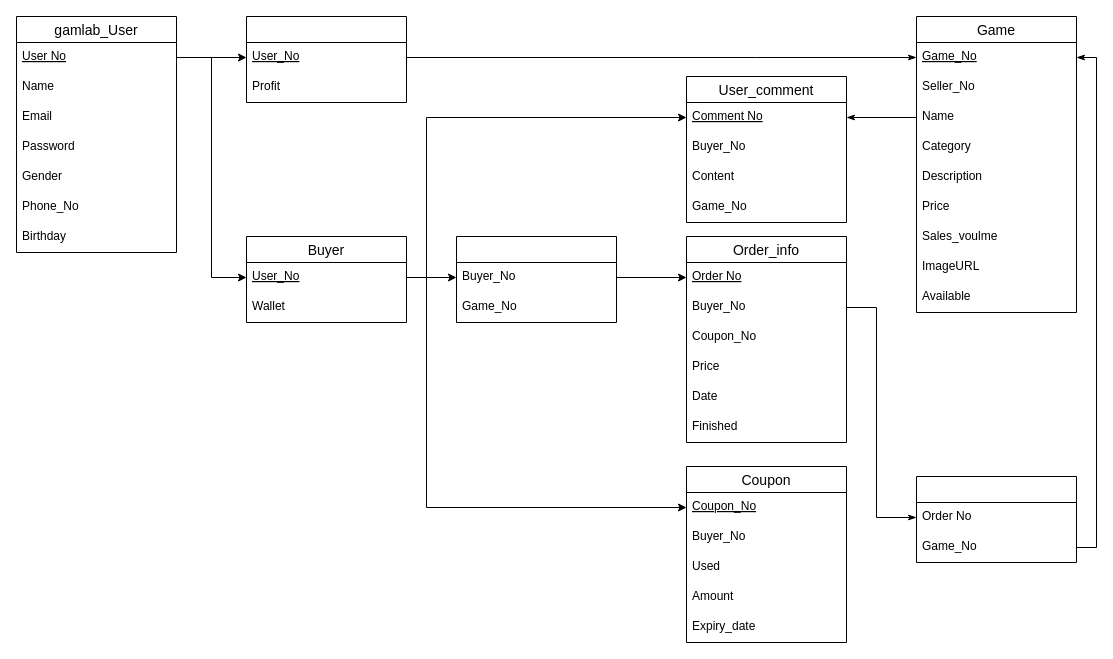
Image size: 1113x659. Some labels were removed from this diagram. Here are the shapes that lost their labels. From the top down, the box of each, then its label:
(246, 16, 406, 102): Seller
(456, 236, 616, 322): Shopping_Cart
(916, 476, 1076, 562): Order_list
